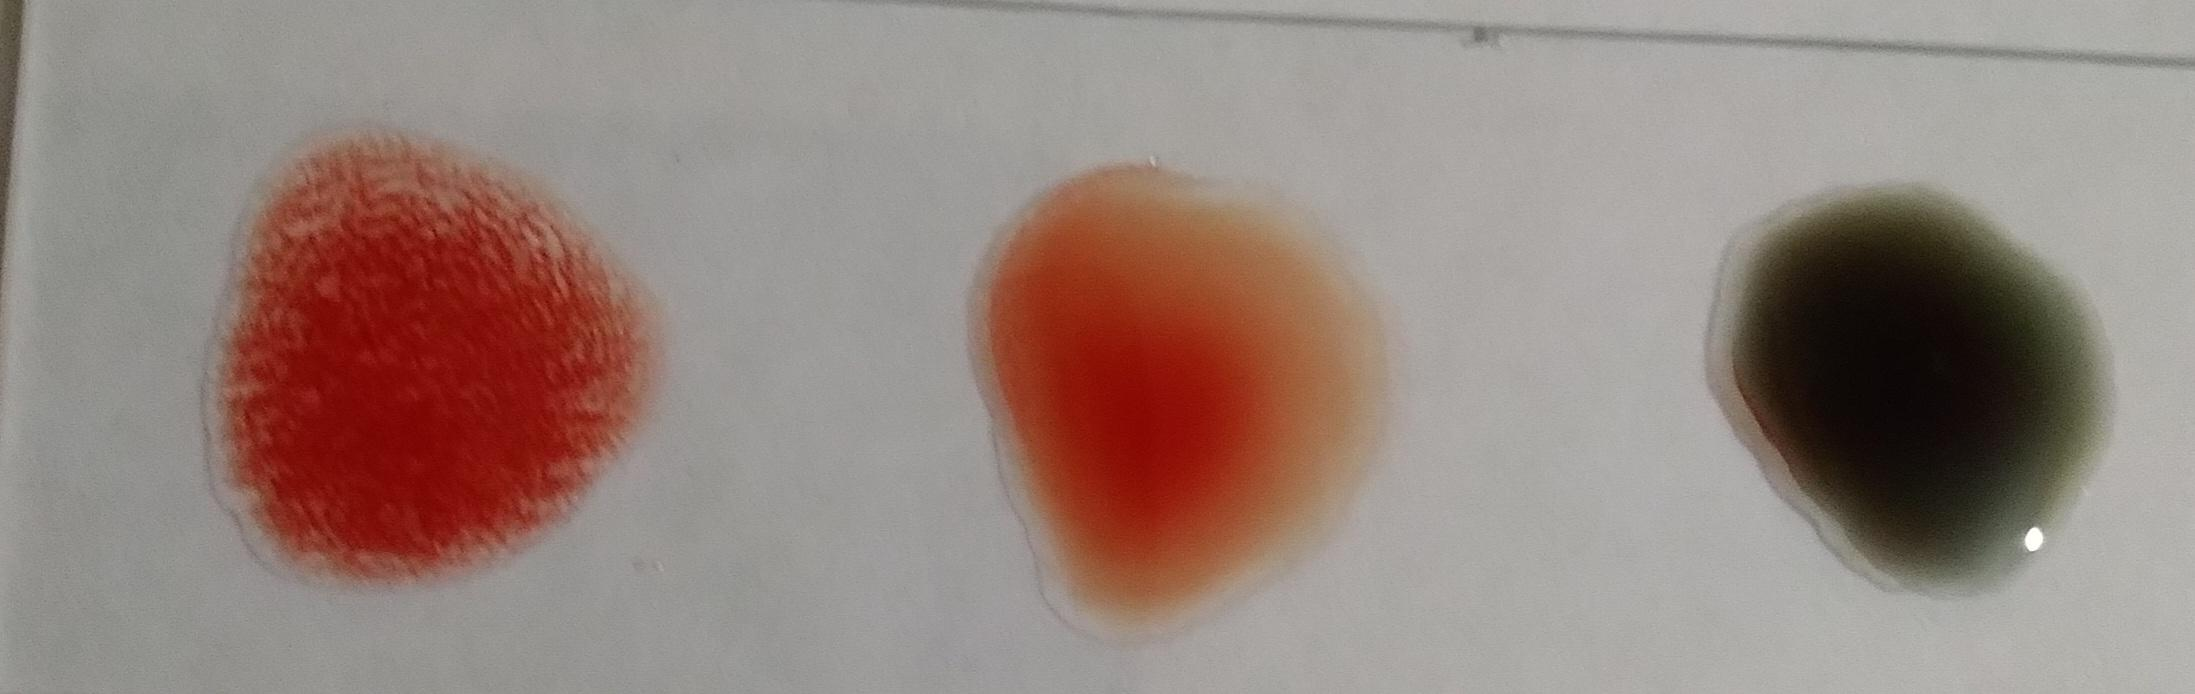D: (203, 97, 619, 599)
